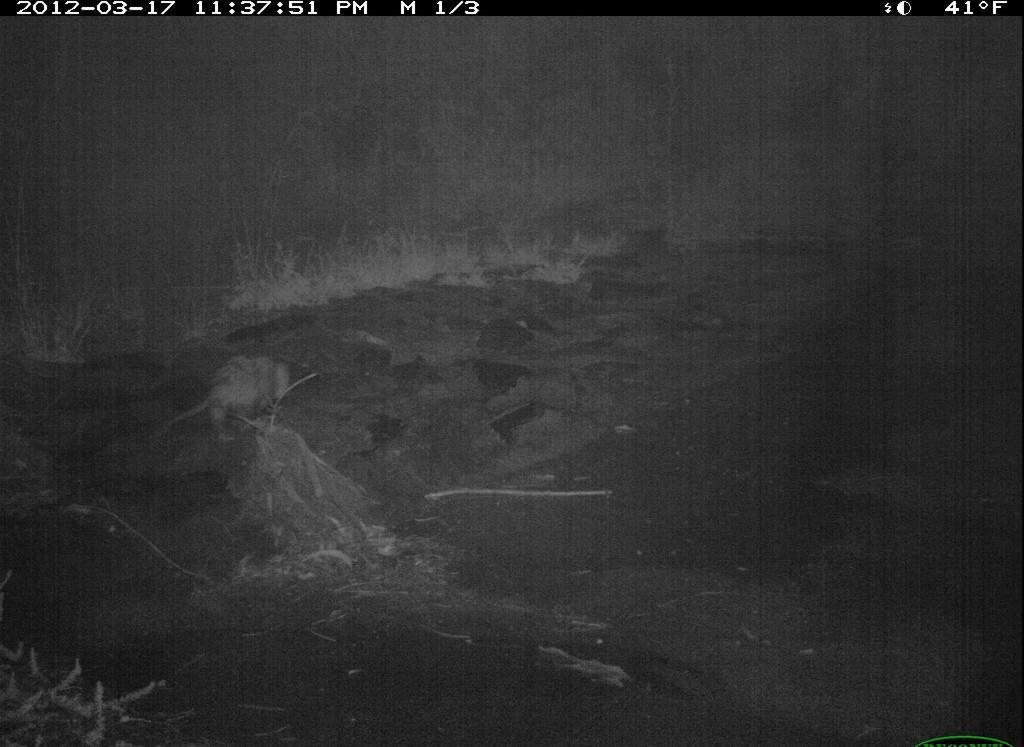opossum: (137, 344, 323, 443)
